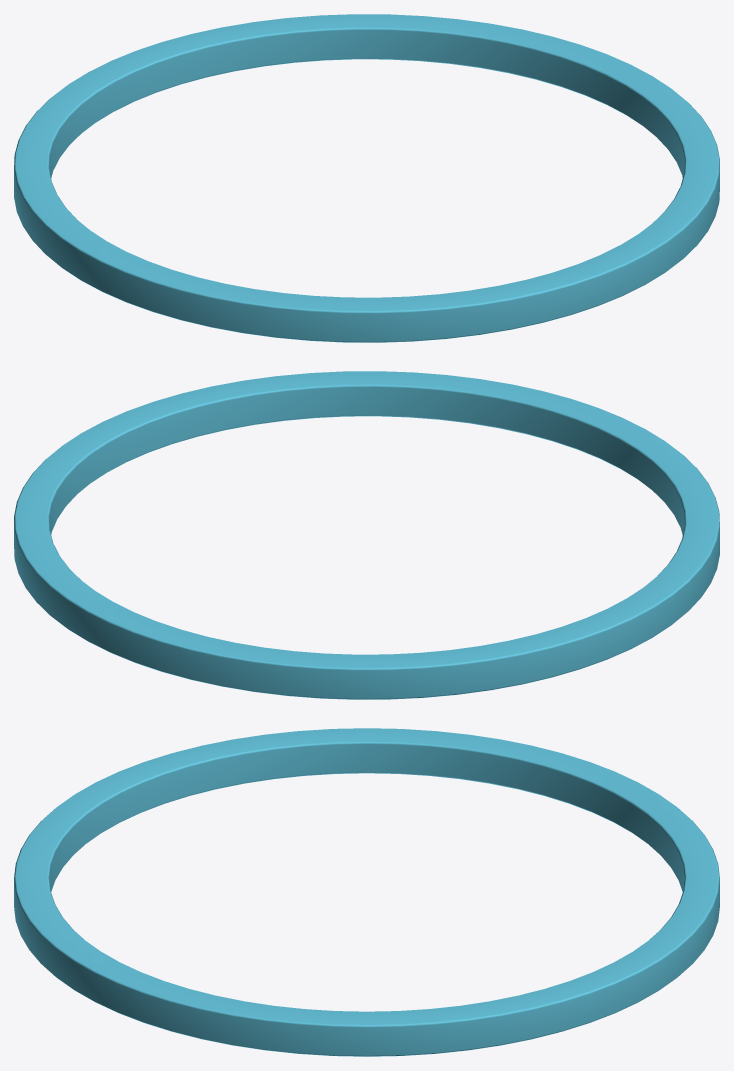
3 views of the same model, one above another, from view 1: azimuth 30°, elevation 25°; view 2: azimuth 150°, elevation 25°; view 3: azimuth 270°, elevation 25° (orthographic).
Parts seen in each view (by area): view 1: seal_body; view 2: seal_body; view 3: seal_body.
Boxes of the visible parts, left/top/right/bottom form: seal_body: left=14, top=14, right=719, bottom=342; seal_body: left=14, top=371, right=719, bottom=699; seal_body: left=14, top=728, right=719, bottom=1056.
Bounding box in the file's own units: 0.127 × 0.00635 × 0.127.
